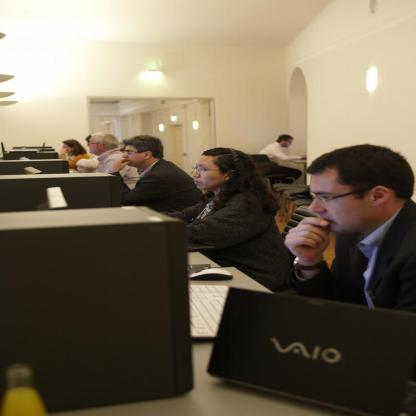board: (202, 291, 411, 413)
